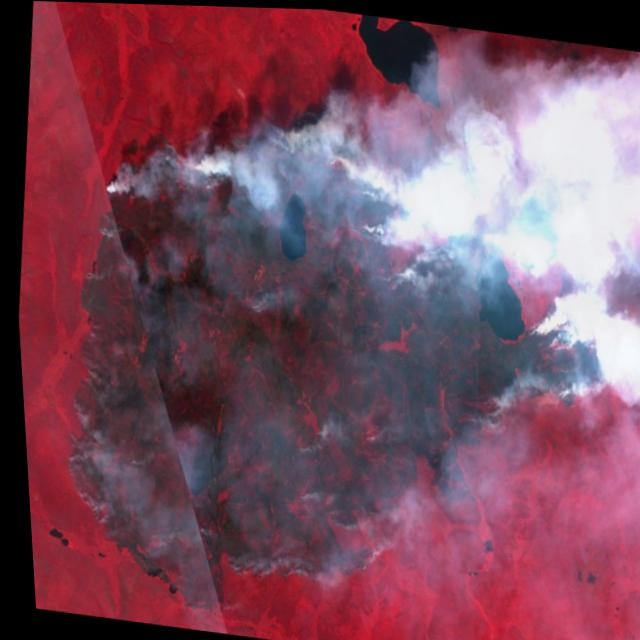fire: (23, 62, 640, 640)
